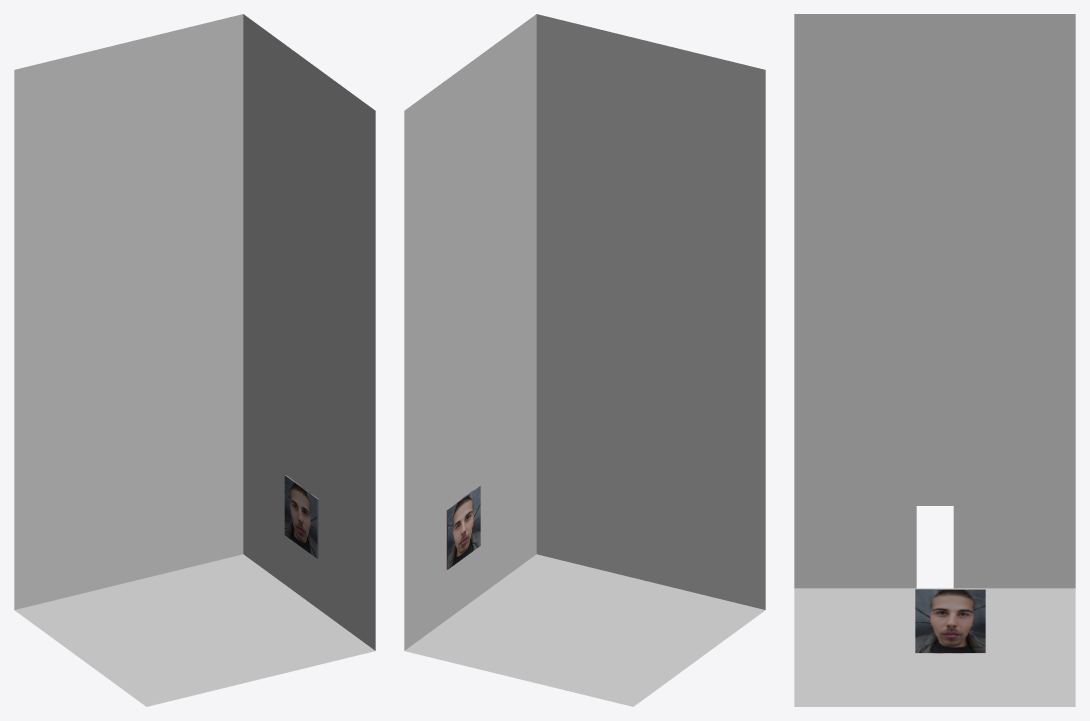
Rendered from room.glb.
The picture shows the model from 3 angles, left to right: view 1: azimuth 30°, elevation 25°; view 2: azimuth 150°, elevation 25°; view 3: azimuth 270°, elevation 25°; orthographic projection. The views are drawn at different scales.
Visible parts, largest first — view 1: Plane.001, Frame; view 2: Plane.001, Frame; view 3: Plane.001, Frame.
Boxes of the visible parts, left/top/right/bottom form: Plane.001: left=14, top=14, right=375, bottom=706; Frame: left=284, top=475, right=318, bottom=558; Plane.001: left=404, top=14, right=765, bottom=706; Frame: left=446, top=485, right=480, bottom=569; Plane.001: left=794, top=14, right=1075, bottom=706; Frame: left=915, top=589, right=985, bottom=653.
Bounding box in the file's own units: 8.01 × 18.05 × 8.01.
1 material, 1 textured.
